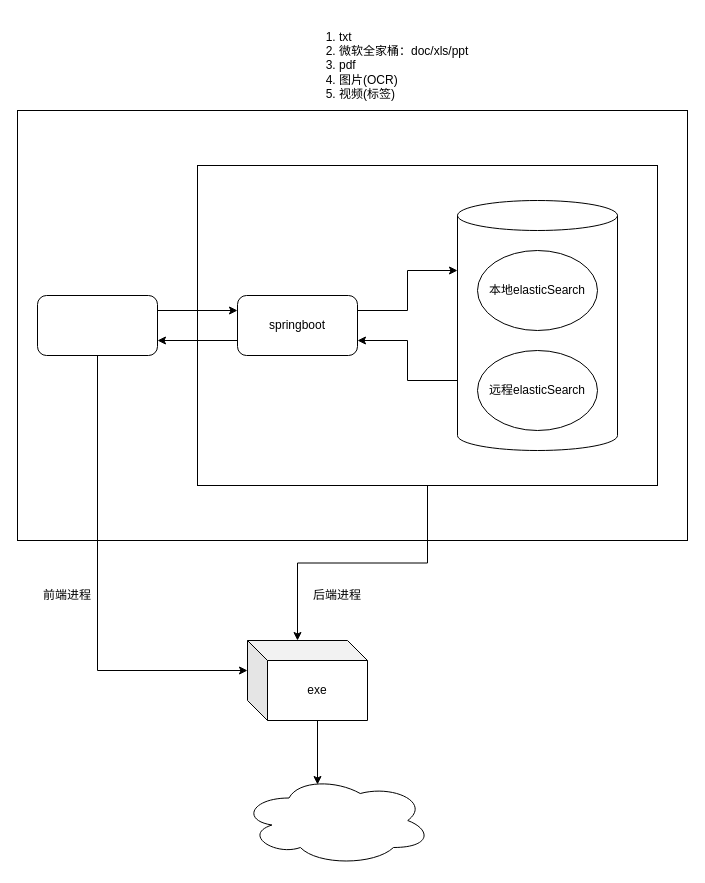
The diagram is 705 pixels wide and 883 high, and some of its shapes have lost their labels. The box of each missing label's shape, as (x1, y1, x2, y2) in pixels:
vue: (36, 294, 158, 356)
安装包: (240, 774, 432, 866)
